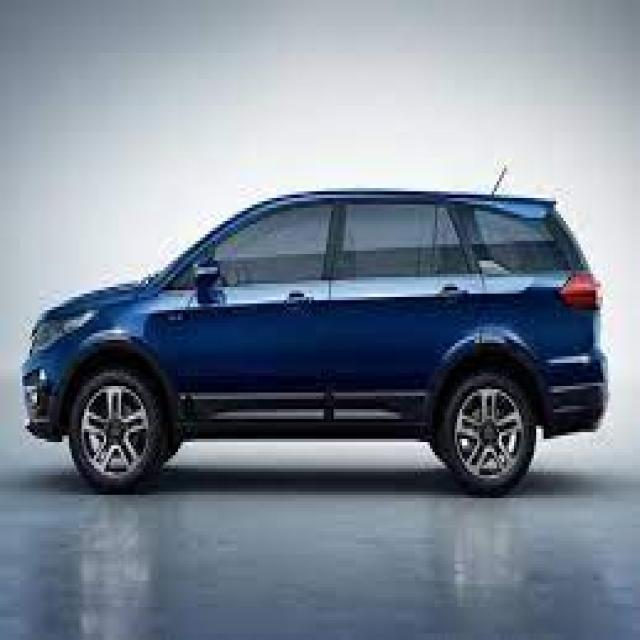Car: (22, 168, 612, 487)
